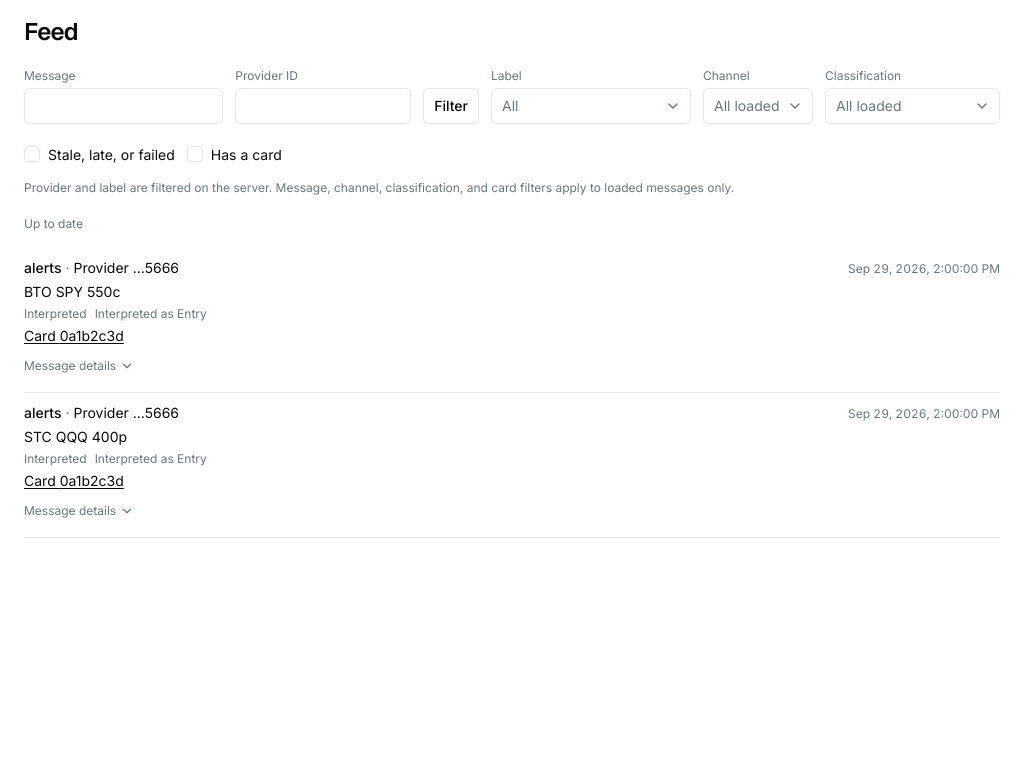
Scenario: feed screen › message search filters loaded rows and is not sent to the server
Expected: the text "STC QQQ 400p" is shown, [24,428,127,445]
Type "qqq" into the field labelled "Message" at (124, 106), box [24,88,223,124]
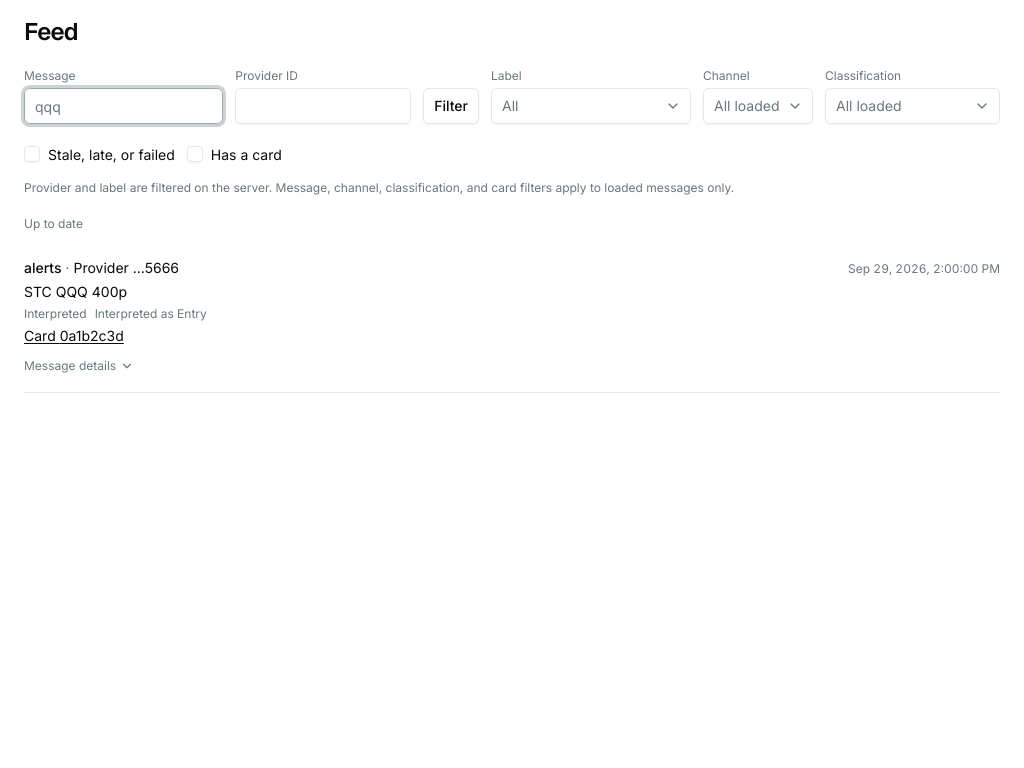
Expected: the text "STC QQQ 400p" is shown, [24,283,127,300]
Result: the text "BTO SPY 550c" is gone
